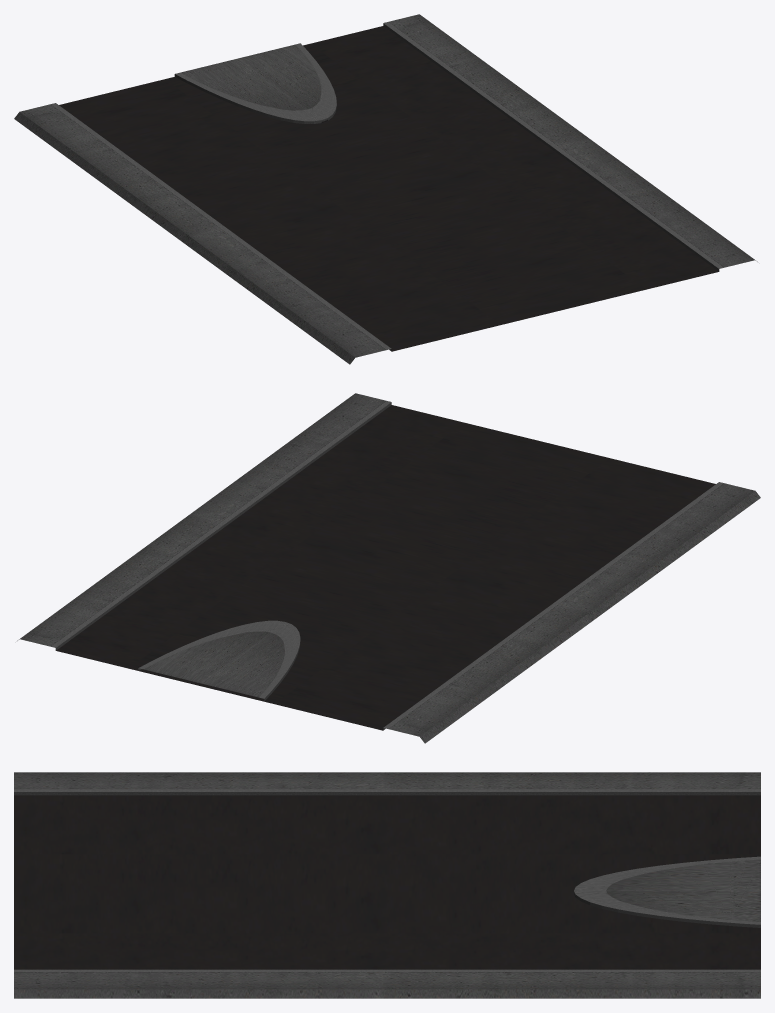
The model's file is RJs_Road Pass 2+4+2 Basic Node_UT.fbx.
The picture shows the model from 3 angles, top to bottom: view 1: azimuth 30°, elevation 25°; view 2: azimuth 150°, elevation 25°; view 3: azimuth 270°, elevation 25°; orthographic projection. The views are drawn at different scales.
Parts seen in each view (by area): view 1: plane_s; view 2: plane_s; view 3: plane_s.
Boxes of the visible parts, x1=… form: plane_s: x1=14, y1=14, x2=757, y2=364; plane_s: x1=17, y1=393, x2=760, y2=743; plane_s: x1=14, y1=772, x2=760, y2=998.
Bounding box in the file's own units: 4520 × 6400 × 60.1.
